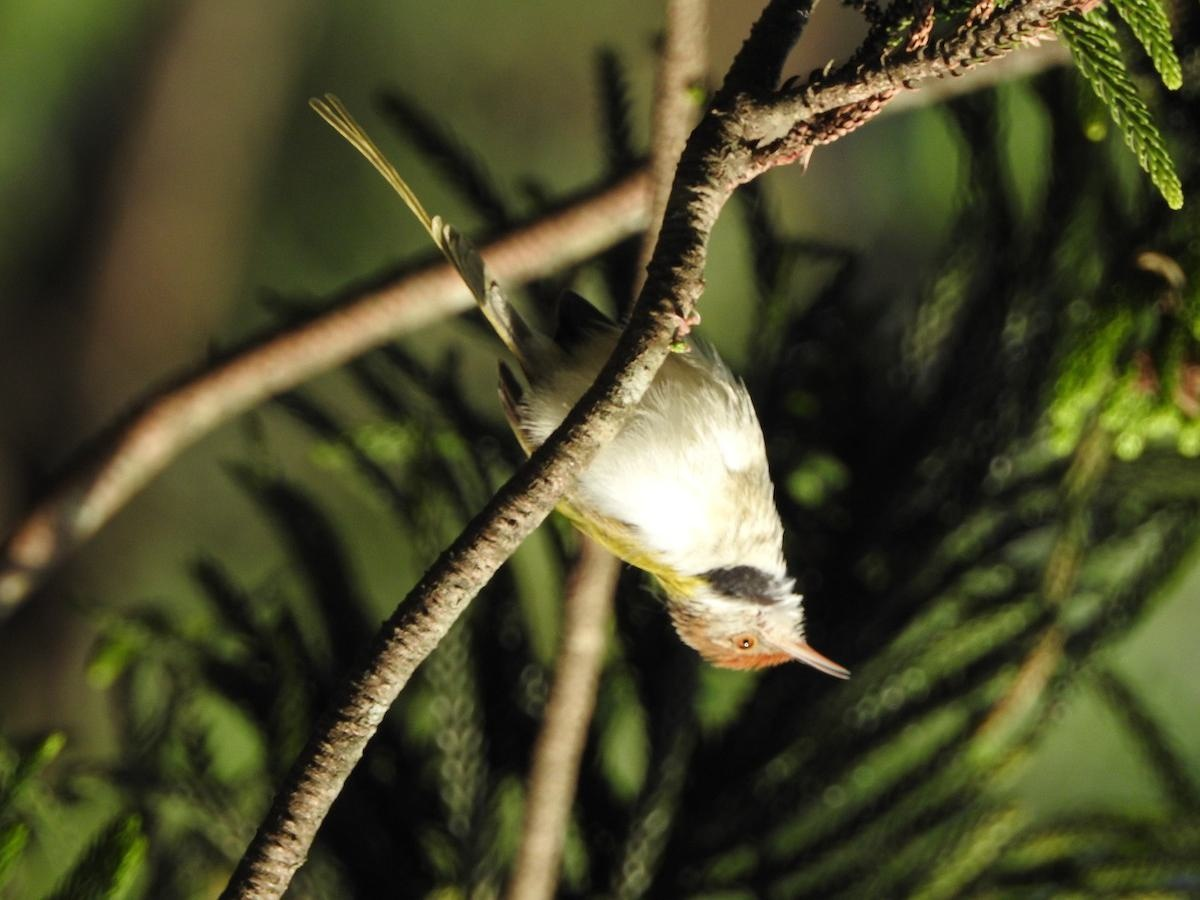tailorbird: (367, 138, 853, 693)
